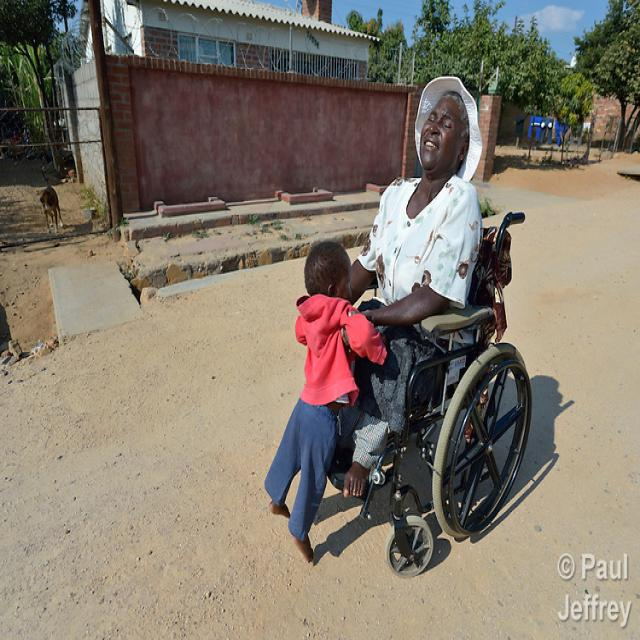wheelchairs: (288, 154, 561, 590)
